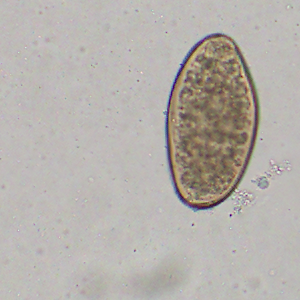Fasciola_hepatica_egg: (164, 32, 260, 211)
